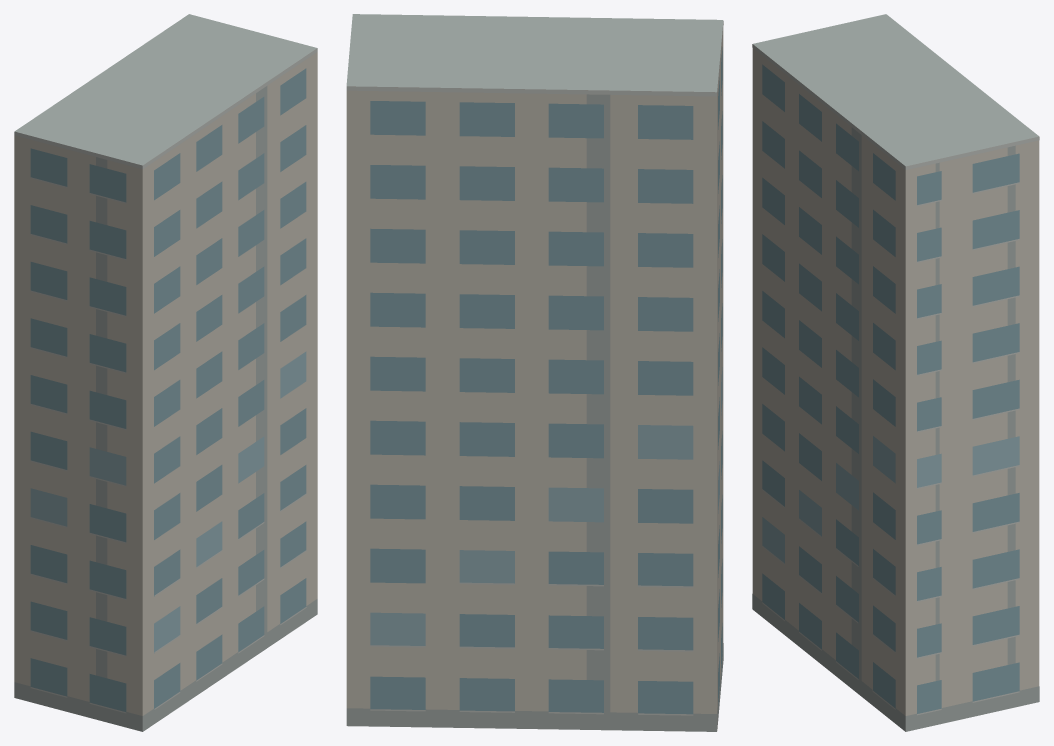
Rendered from residential-c7446c64-31e7-44ad-8271-f4e8a16e3fa8.glb.
The picture shows the model from 3 angles, left to right: view 1: azimuth 30°, elevation 25°; view 2: azimuth 150°, elevation 25°; view 3: azimuth 270°, elevation 25°; orthographic projection. The views are drawn at different scales.
Parts seen in each view (by area): view 1: residential-c7446c64-31e7-44ad-8271-f4e8a16e3fa8.tmp; view 2: residential-c7446c64-31e7-44ad-8271-f4e8a16e3fa8.tmp; view 3: residential-c7446c64-31e7-44ad-8271-f4e8a16e3fa8.tmp.
Part boxes in pixels (<box>): residential-c7446c64-31e7-44ad-8271-f4e8a16e3fa8.tmp: <box>14,14,317,731</box>; residential-c7446c64-31e7-44ad-8271-f4e8a16e3fa8.tmp: <box>346,14,723,731</box>; residential-c7446c64-31e7-44ad-8271-f4e8a16e3fa8.tmp: <box>752,14,1039,731</box>.
Size of the model in its own units: 20.82 by 36 by 16.56.
